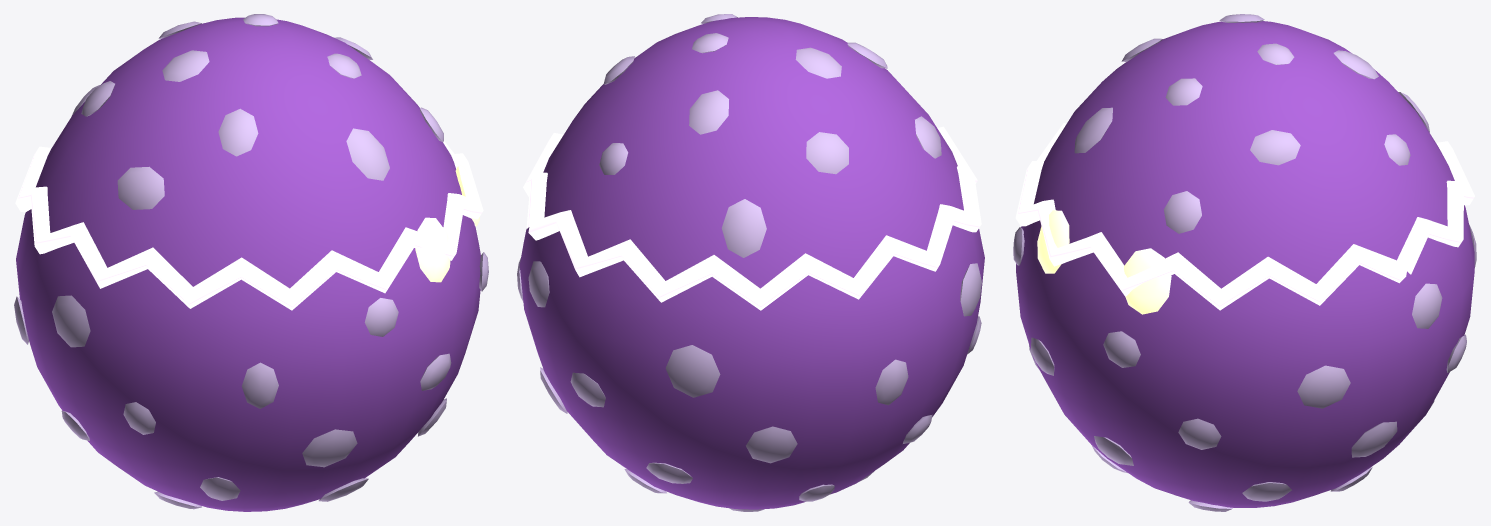
File: purple.glb
3 renders of one model, left to right at view 1: azimuth 30°, elevation 25°; view 2: azimuth 150°, elevation 25°; view 3: azimuth 270°, elevation 25°, orthographic.
Visible parts, largest first — view 1: purple; view 2: purple; view 3: purple.
Part boxes in pixels (bbox=[...]): purple: bbox=[14, 14, 488, 511]; purple: bbox=[517, 14, 984, 511]; purple: bbox=[1013, 14, 1476, 511].
Bounding box in the file's own units: 0.4629 × 0.5 × 0.4622.
